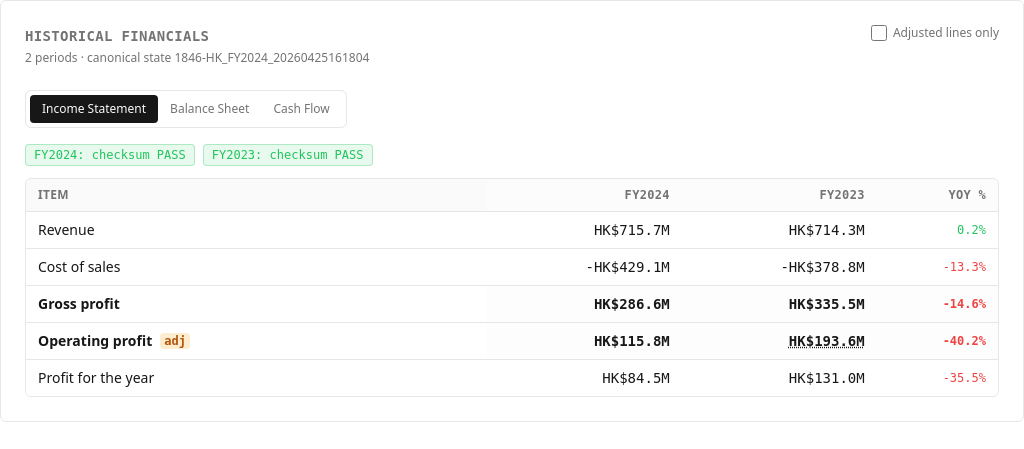
HistoricalFinancials › switches to balance sheet tab
Click the button "Balance Sheet" at (210,109), box [158, 95, 261, 123]
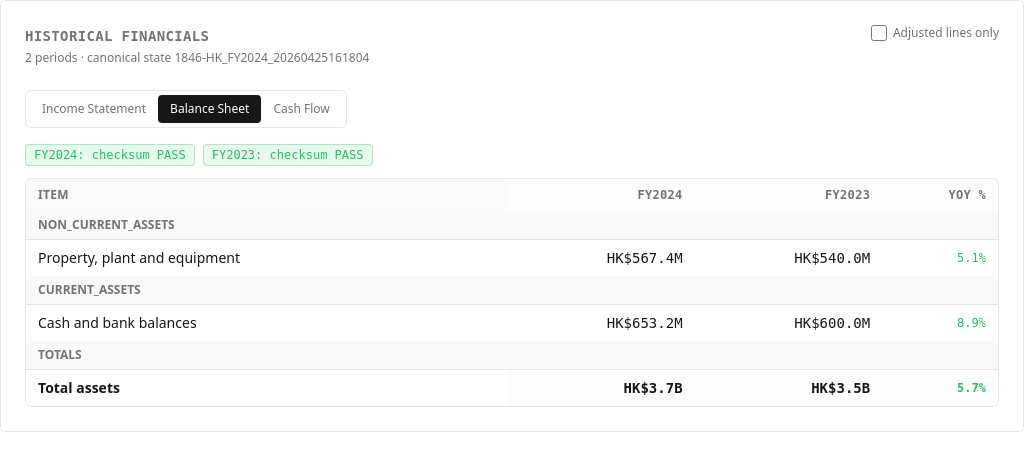
Now the text "Property, plant and equipment" is shown, box [38, 248, 240, 268]
